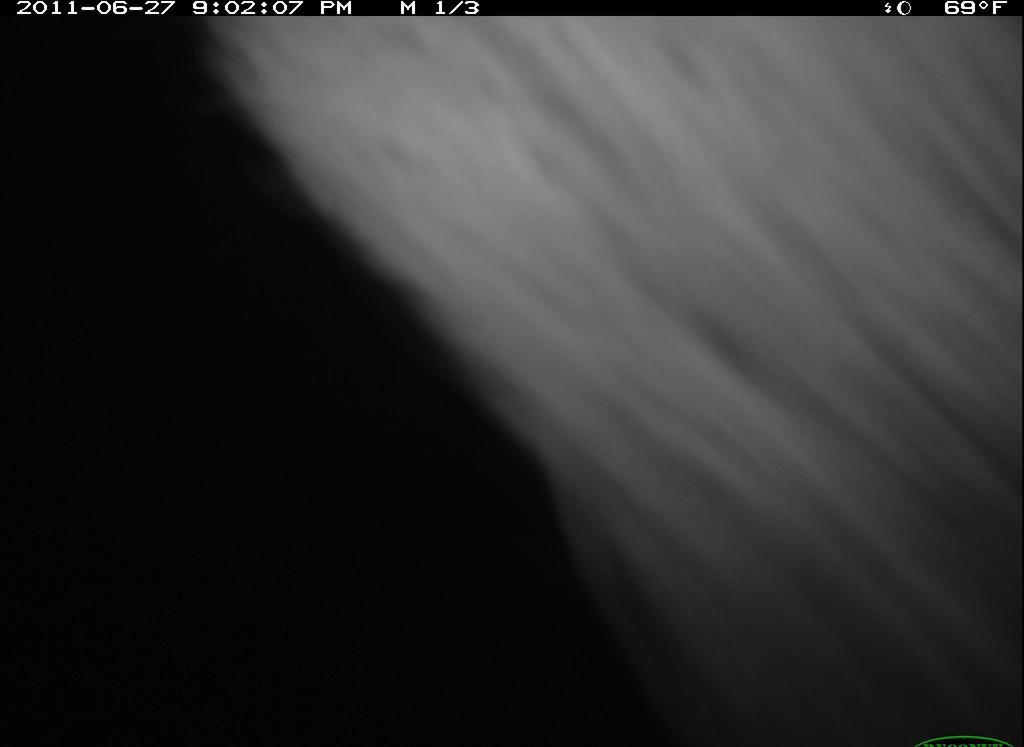coyote: (198, 9, 1024, 747)
